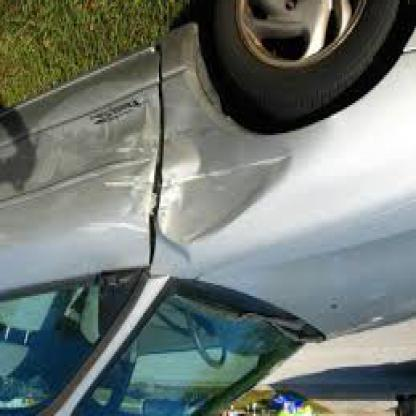dent: (105, 144, 292, 248)
